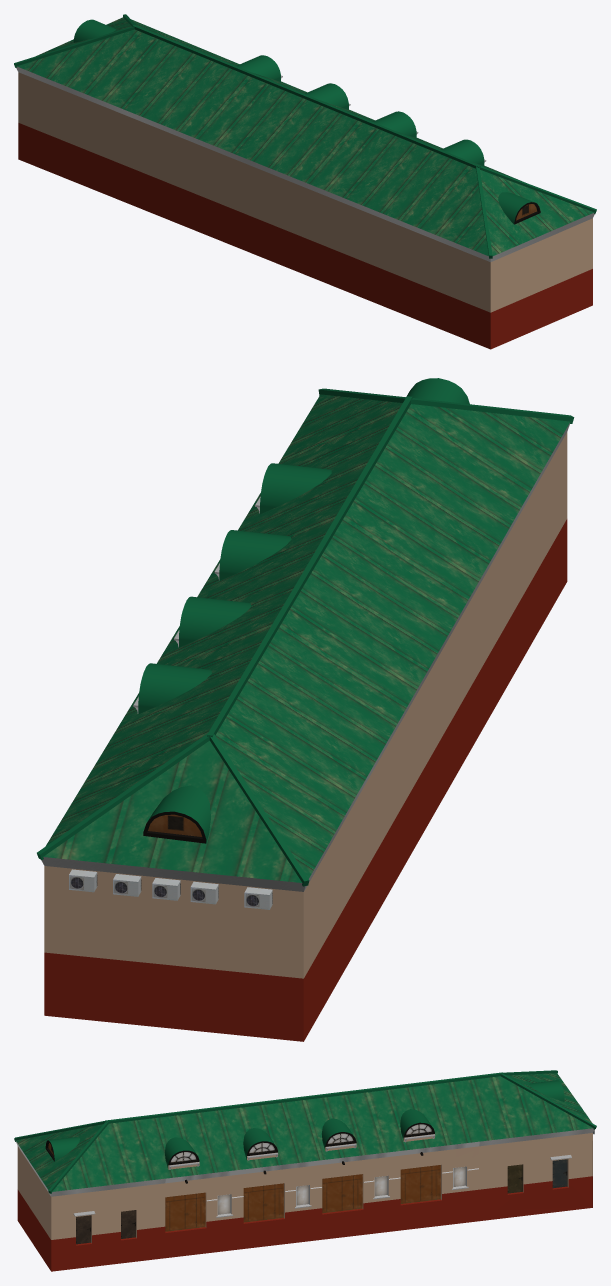
Rendered from hom2.FBX.
The picture shows the model from 3 angles, top to bottom: view 1: azimuth 30°, elevation 25°; view 2: azimuth 150°, elevation 25°; view 3: azimuth 270°, elevation 25°; orthographic projection. The views are drawn at different scales.
Visible parts, largest first — view 1: 01020-50@117379; view 2: 01020-50@117379; view 3: 01020-50@117379.
Part boxes in pixels (bbox=[...]): 01020-50@117379: bbox=[14, 14, 596, 349]; 01020-50@117379: bbox=[37, 378, 574, 1041]; 01020-50@117379: bbox=[14, 1070, 596, 1271].
Bounding box in the file's own units: 16.79 × 7.53 × 34.17.
1 material, 1 textured.
